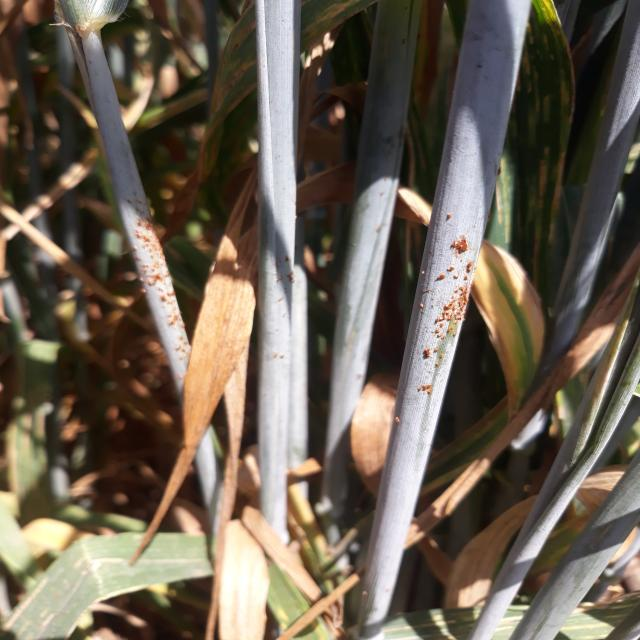black_stem_rust: (354, 0, 542, 586), (60, 51, 227, 405), (234, 28, 310, 510)
